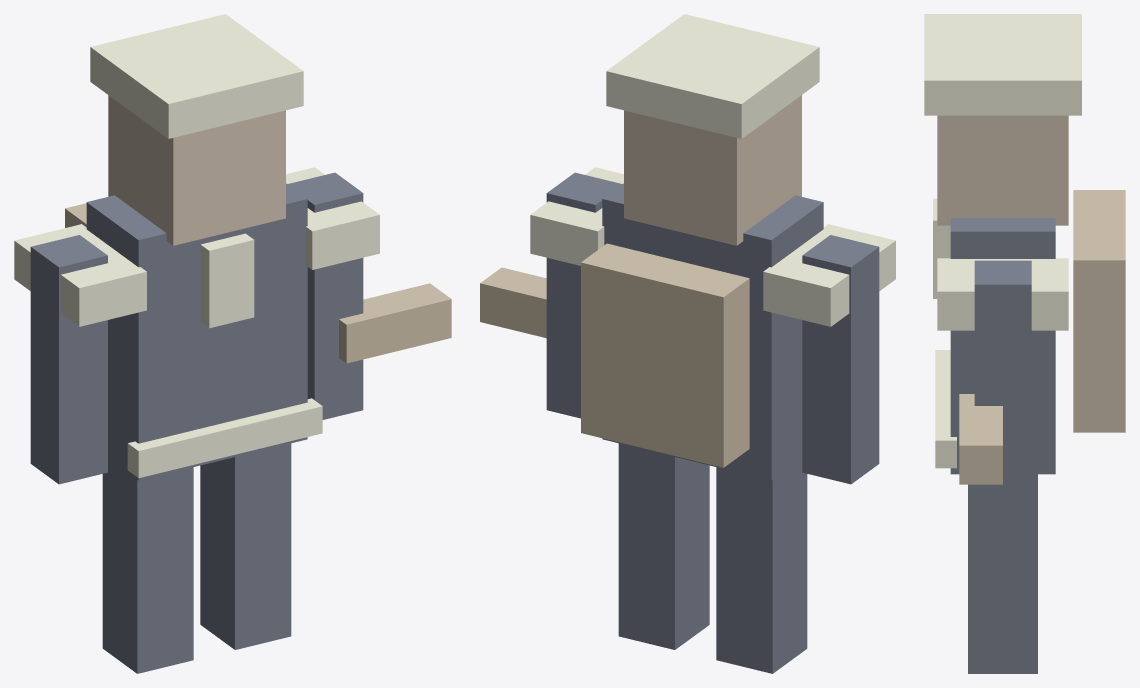
File: 07_ossa_gearmantle_watcher_near_resource.glb
3 views of the same model, side by side, from view 1: azimuth 30°, elevation 25°; view 2: azimuth 150°, elevation 25°; view 3: azimuth 270°, elevation 25° (orthographic).
Visible parts, largest first — view 1: Ossa Gearmantle, Watcher near Resource; view 2: Ossa Gearmantle, Watcher near Resource; view 3: Ossa Gearmantle, Watcher near Resource.
Boxes of the visible parts, x1,y1,x2,y2 form: Ossa Gearmantle, Watcher near Resource: (14,14,451,673); Ossa Gearmantle, Watcher near Resource: (480,14,895,673); Ossa Gearmantle, Watcher near Resource: (924,14,1125,673).
Bounding box in the file's own units: 0.9916 × 1.44 × 0.445.
